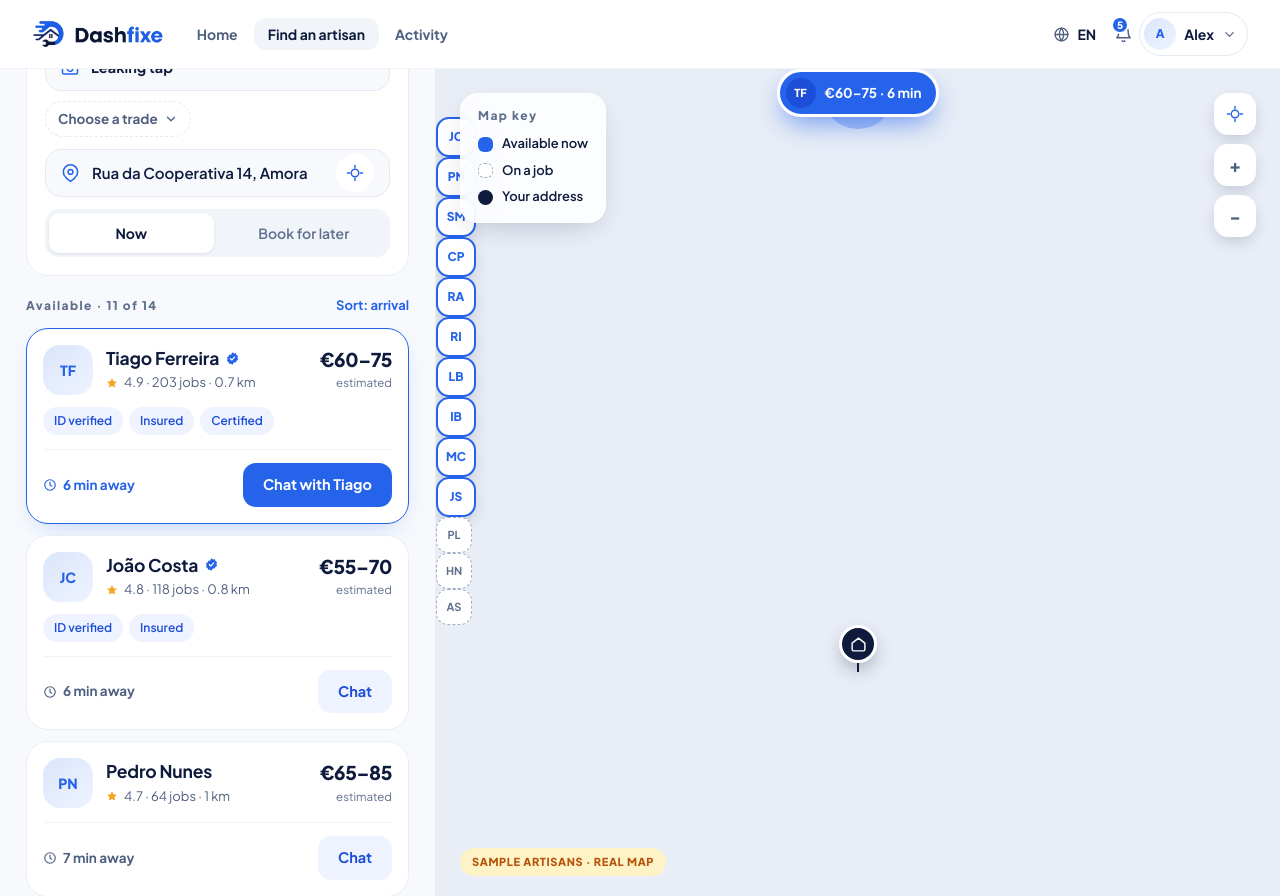
the chat turns a search into a job (the commit point) › asks, estimates, gets approved, books, and hands off to tracking
(page scrolled)
Click the button "Chat with Tiago" at (317, 485), box [243,463,392,507]
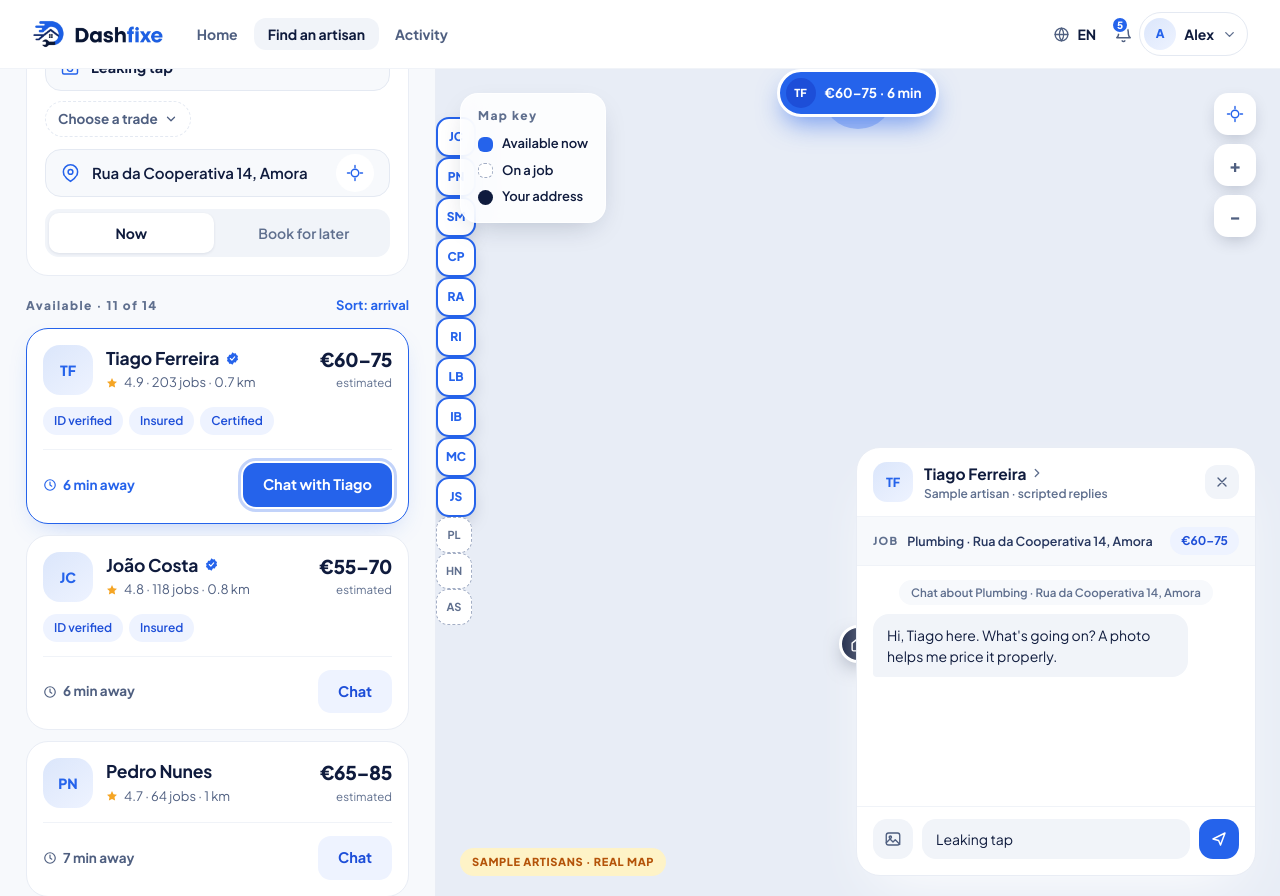
Expected: the field named "Message" holds "Leaking tap", [922,819,1190,859]
Expected: the text "What's going on?" is shown, [887,626,1150,665]
Click the button named "Send" at (1219, 839), box [1199,819,1239,859]
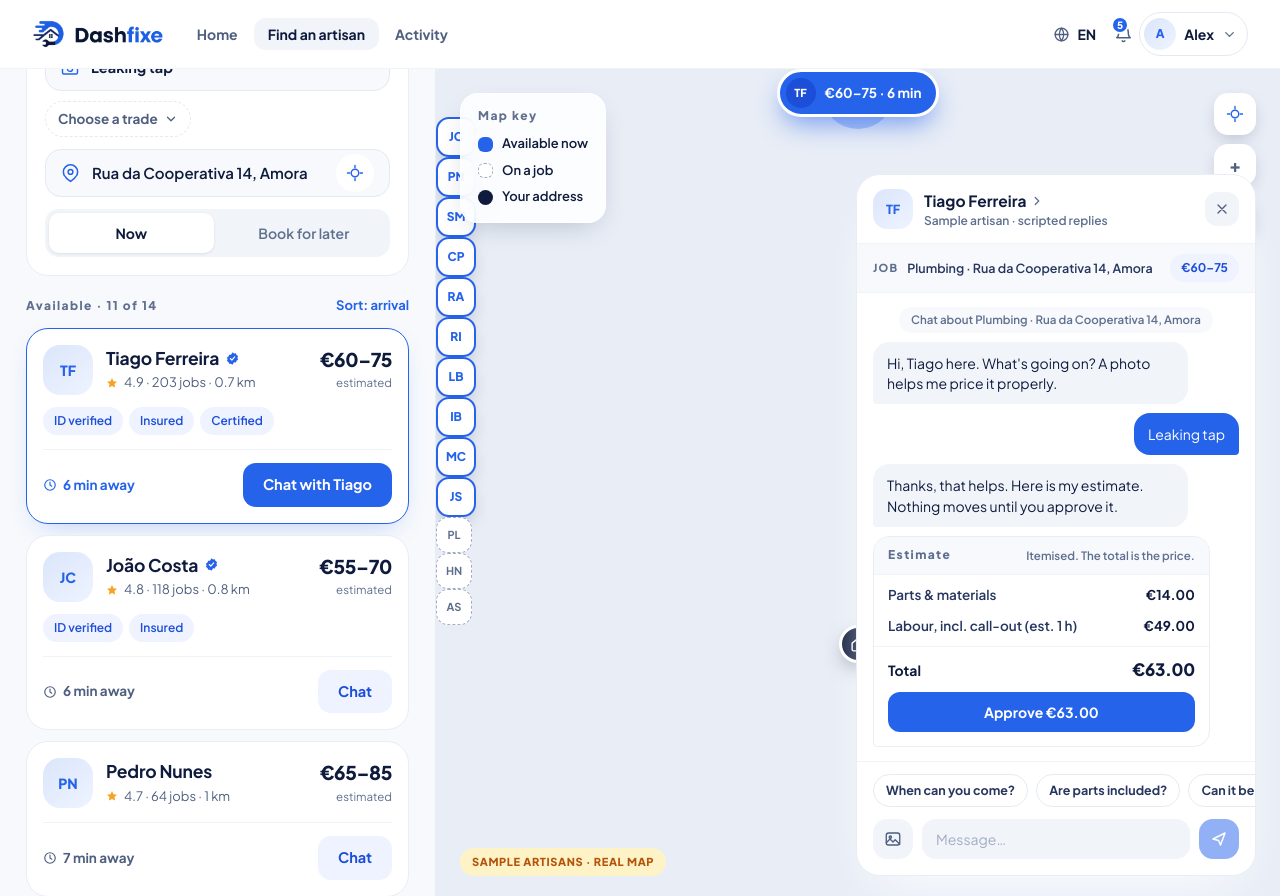
Expected: the text "Estimate" is shown, [888,548,951,563]
Expected: the text "€63.00" is shown, [1132,657,1195,682]
Click the button "Approve €63.00" at (1041, 712), box [888,692,1195,732]
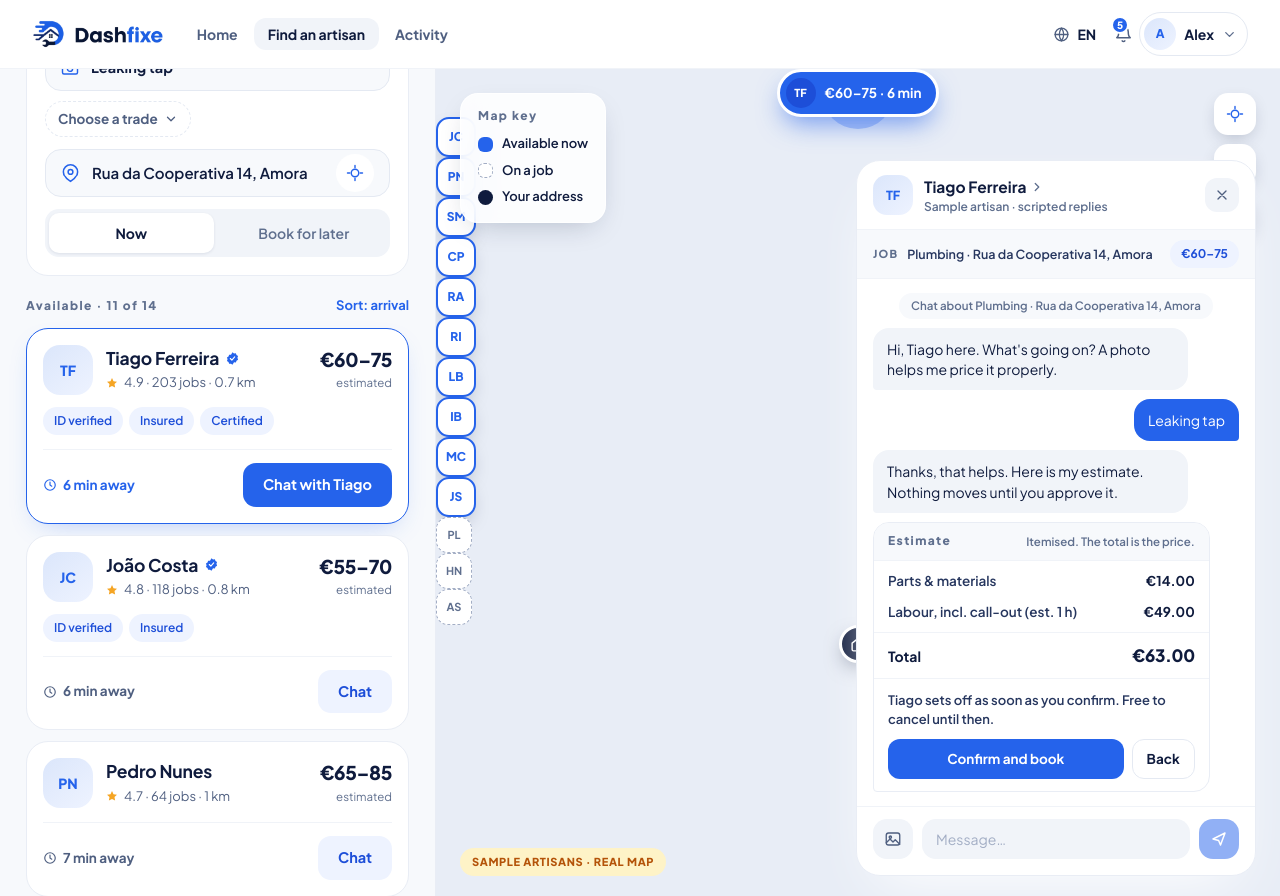
Click the button "Confirm and book" at (1006, 759), box [888,739,1124,779]
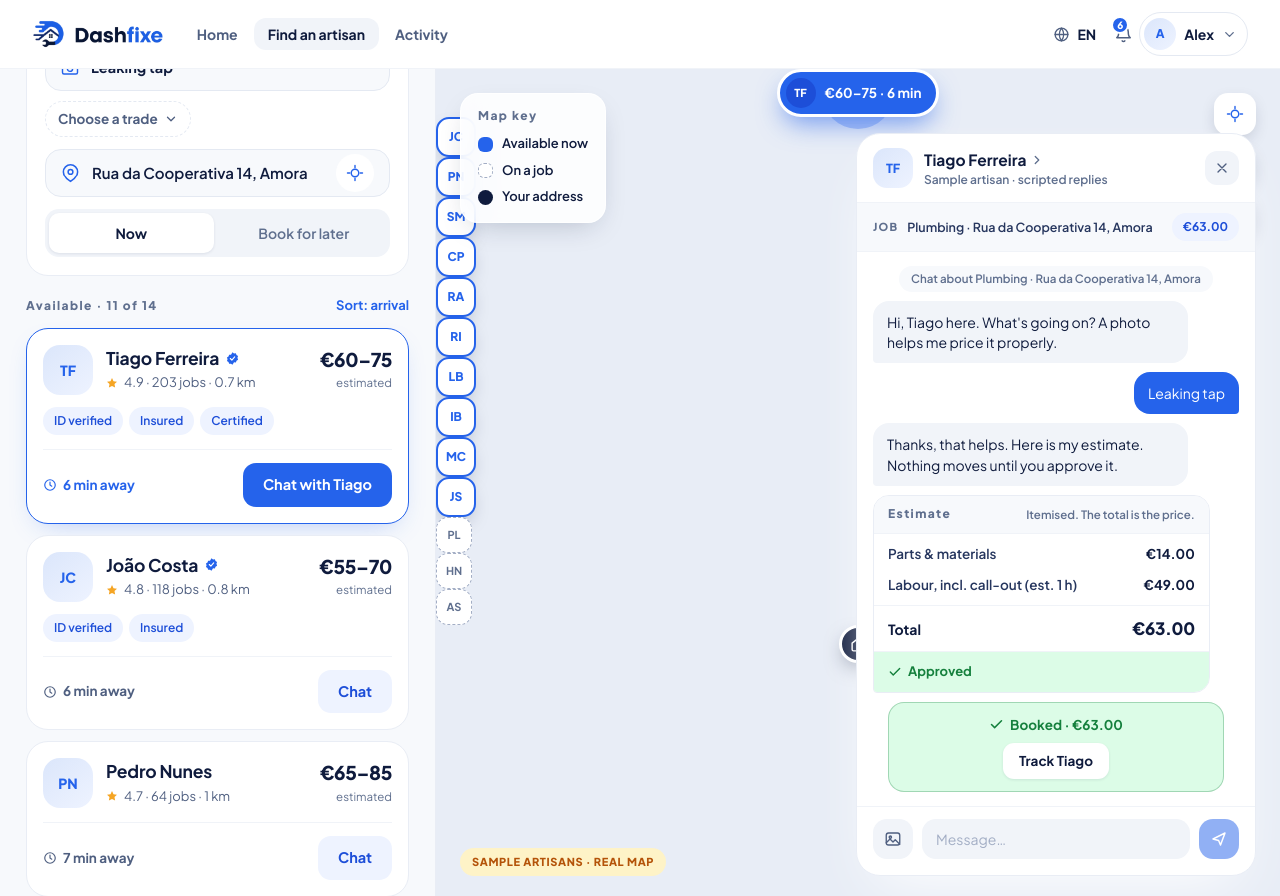
Click the link "Track Tiago" at (1056, 761), box [1003,743,1109,779]
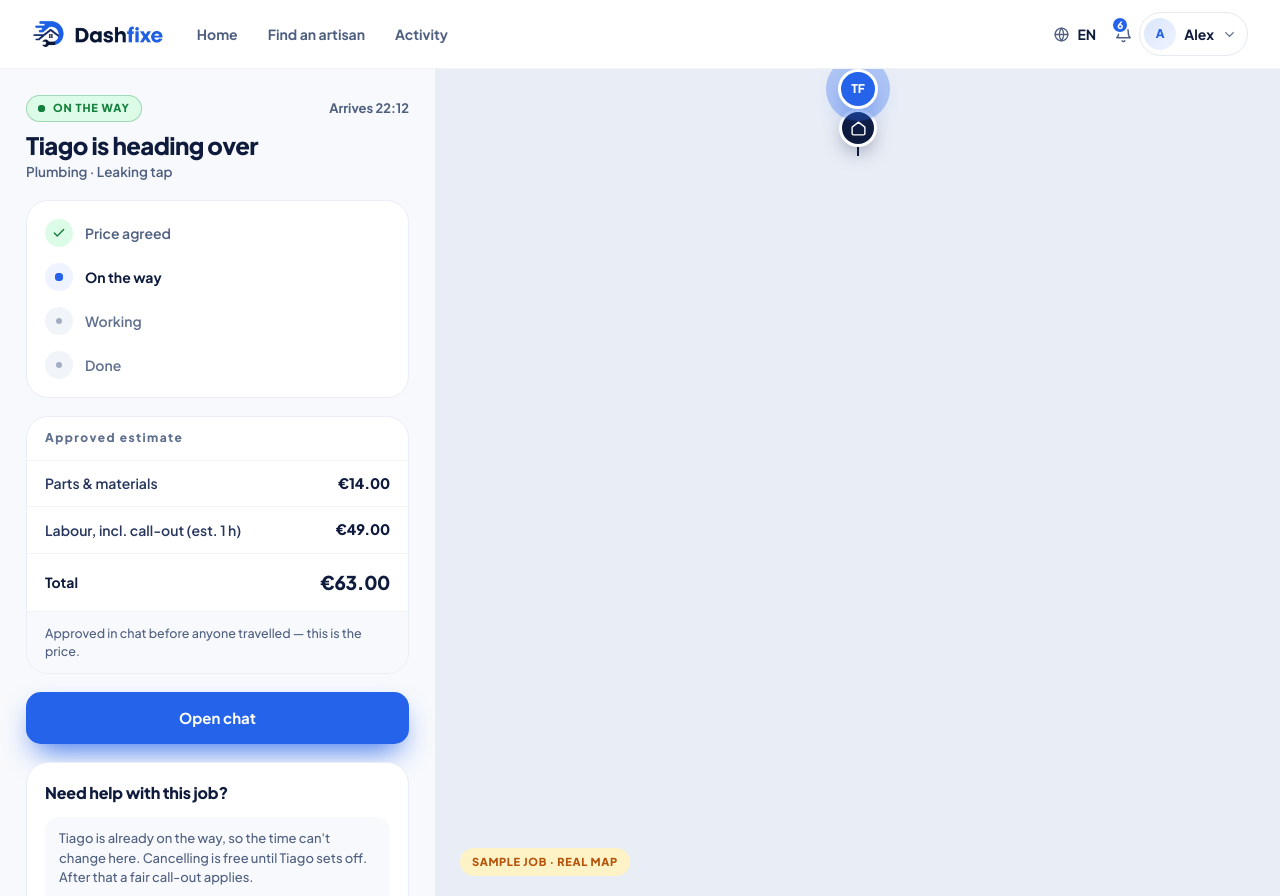
Expected: the heading "Tiago is heading over" is shown, [26,130,258,160]
Expected: the text "Plumbing · Leaking tap" is shown, [26,163,172,180]
